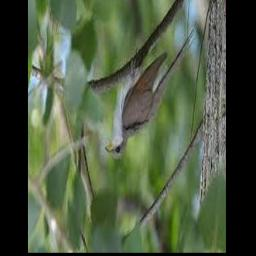Cuckoo: (104, 27, 196, 160)
